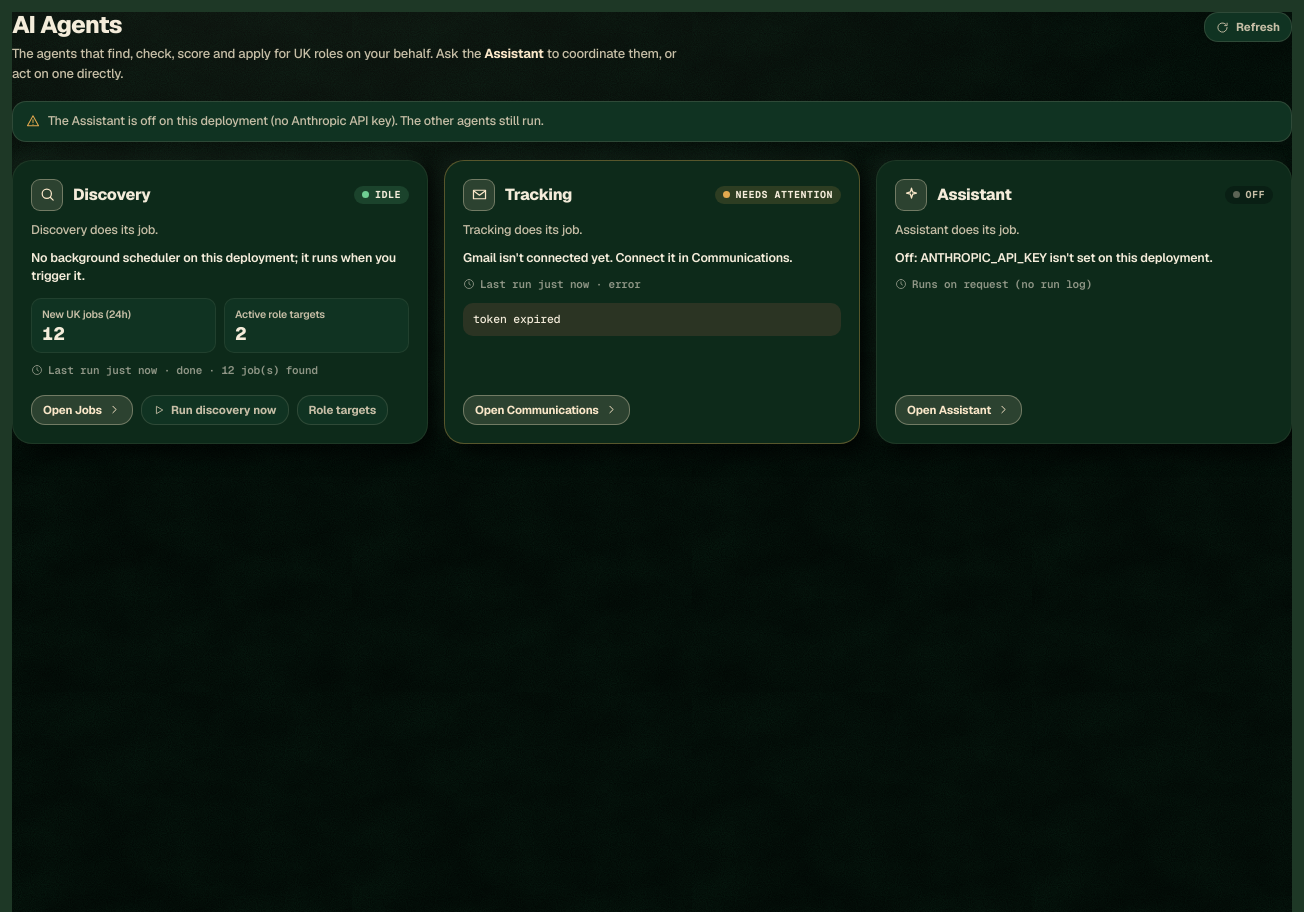
it: AgentsPage › runs discovery only after confirmation
Check: the heading "Discovery" is shown, box [73,184,151,205]
Click the button "Run discovery now" at (215, 410), box [141,395,289,425]
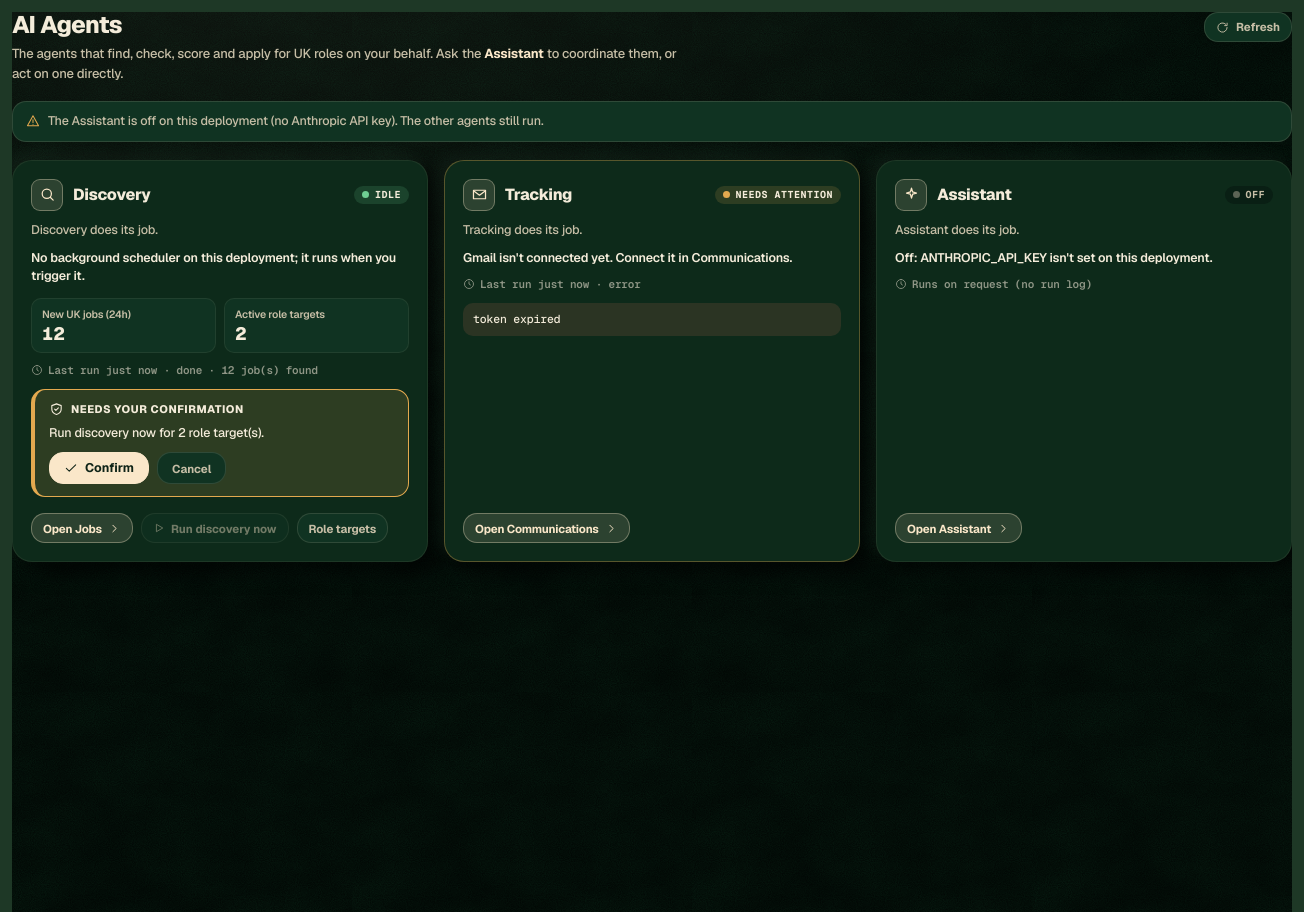
Check: the text "Run discovery now for 2 role target(s)." is shown, box [49,424,264,441]
Click the button "Confirm" at (99, 468), box [49,452,149,484]
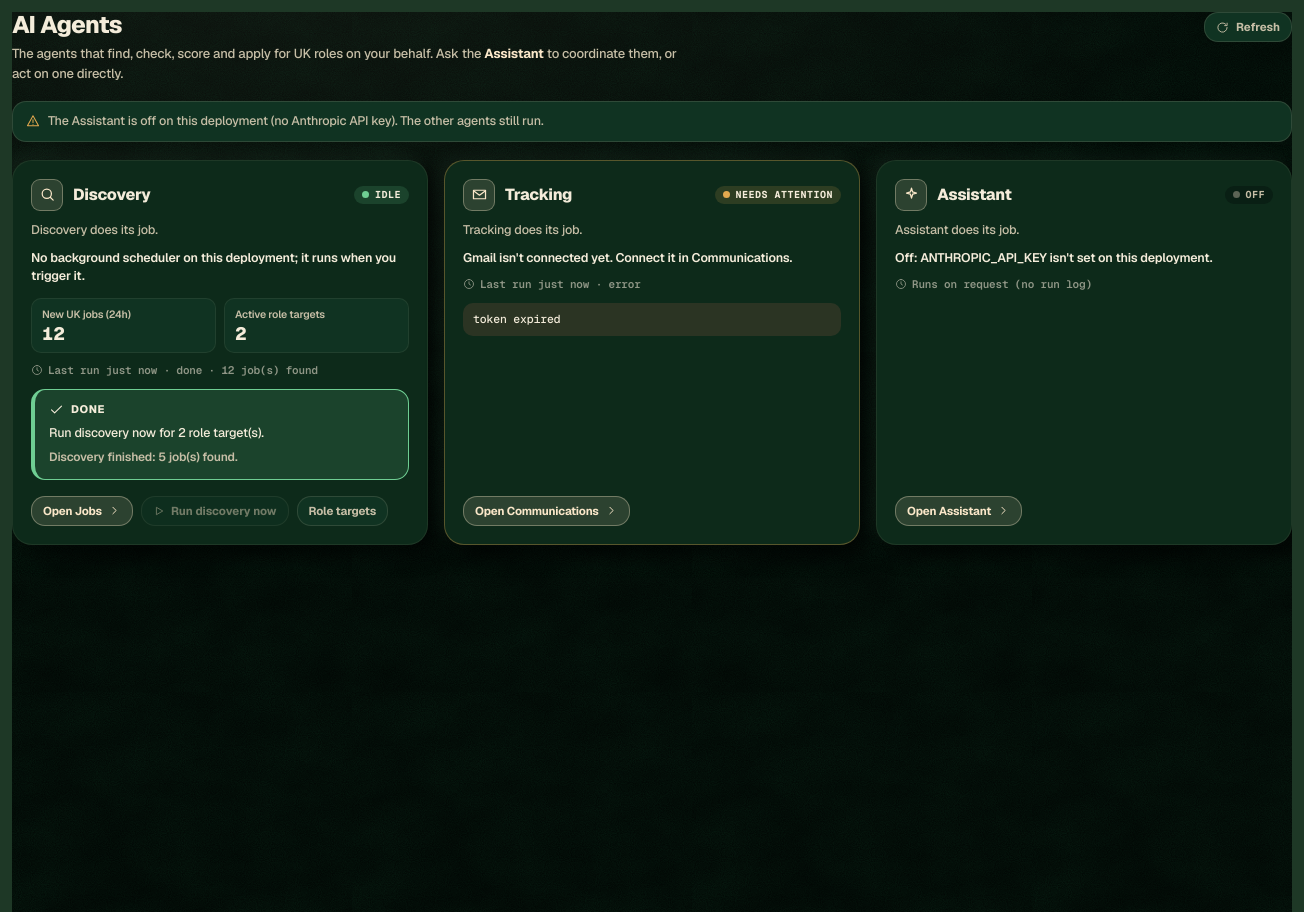
Check: the text "Discovery finished: 5 job(s) found." is shown, box [49,449,237,465]
